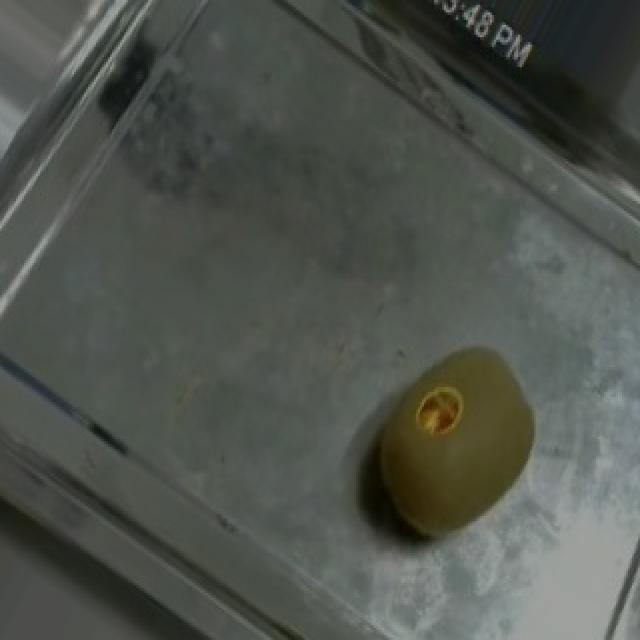Fruit: (332, 320, 572, 571)
